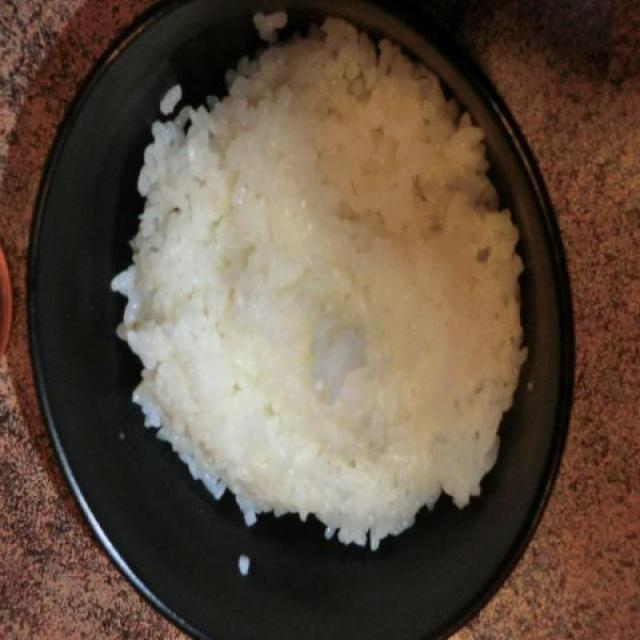nasi_putih: (114, 18, 525, 551)
